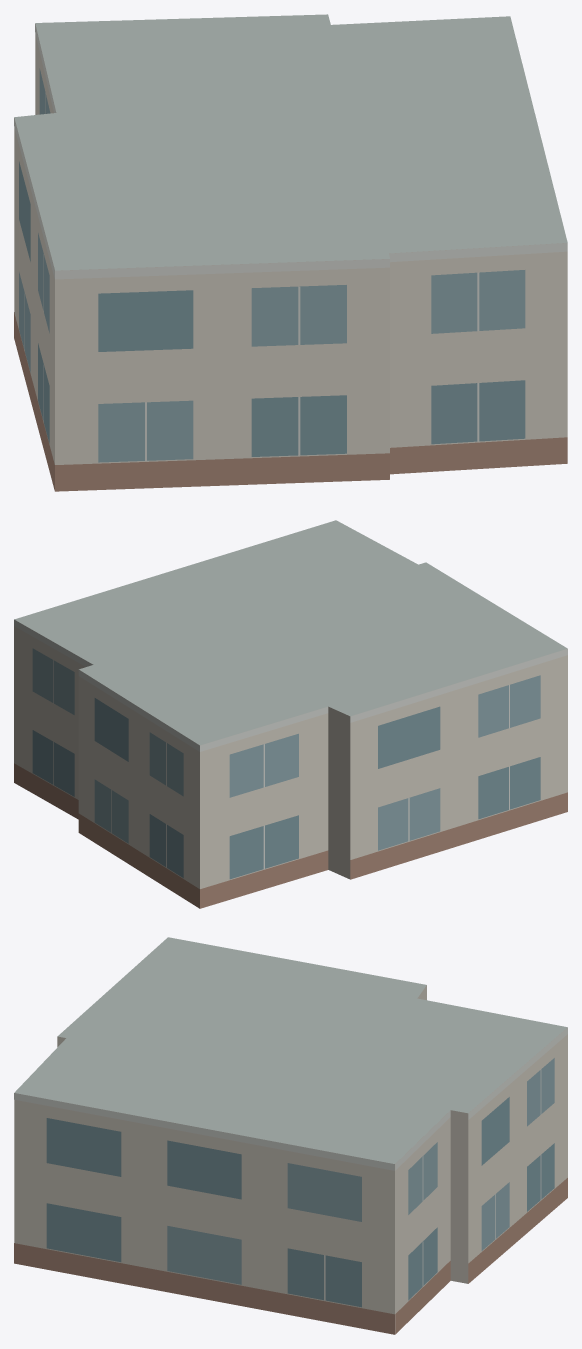
File: survey-upis-32780458.glb
The picture shows the model from 3 angles, top to bottom: view 1: azimuth 30°, elevation 25°; view 2: azimuth 150°, elevation 25°; view 3: azimuth 270°, elevation 25°; orthographic projection. The views are drawn at different scales.
Visible parts, largest first — view 1: survey-upis-32780458.tmp; view 2: survey-upis-32780458.tmp; view 3: survey-upis-32780458.tmp.
Boxes of the visible parts, x1,y1,x2,y2 form: survey-upis-32780458.tmp: [14, 14, 567, 491]; survey-upis-32780458.tmp: [14, 520, 567, 908]; survey-upis-32780458.tmp: [14, 937, 567, 1334].
Bounding box in the file's own units: 17.41 × 6.1 × 17.95.
